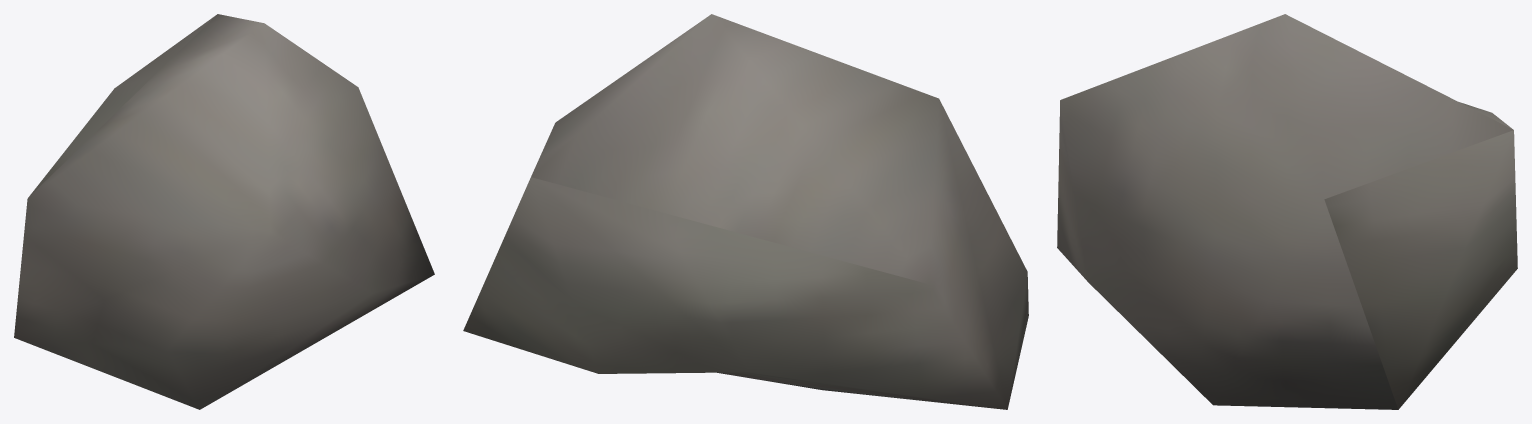
The model's file is rock_tiny.glb.
3 views of the same model, side by side, from view 1: azimuth 30°, elevation 25°; view 2: azimuth 150°, elevation 25°; view 3: azimuth 270°, elevation 25° (orthographic). The views are drawn at different scales.
Parts seen in each view (by area): view 1: Box001.003; view 2: Box001.003; view 3: Box001.003.
Boxes of the visible parts, bbox=[...] form: Box001.003: bbox=[14, 14, 434, 409]; Box001.003: bbox=[463, 14, 1028, 409]; Box001.003: bbox=[1057, 14, 1517, 409].
Size of the model in its own units: 8.86 by 6.26 by 7.49.
1 material, 1 textured.
